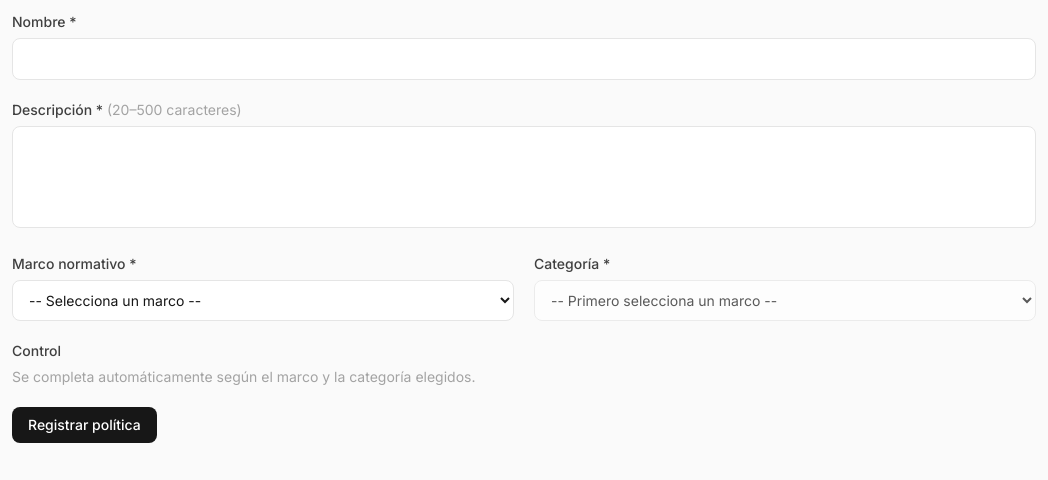
Test: PolicyCreateForm › shows validation error when category is not selected
Type "Política test" into the field labelled "Nombre *" at (524, 59), box [12,38,1036,80]
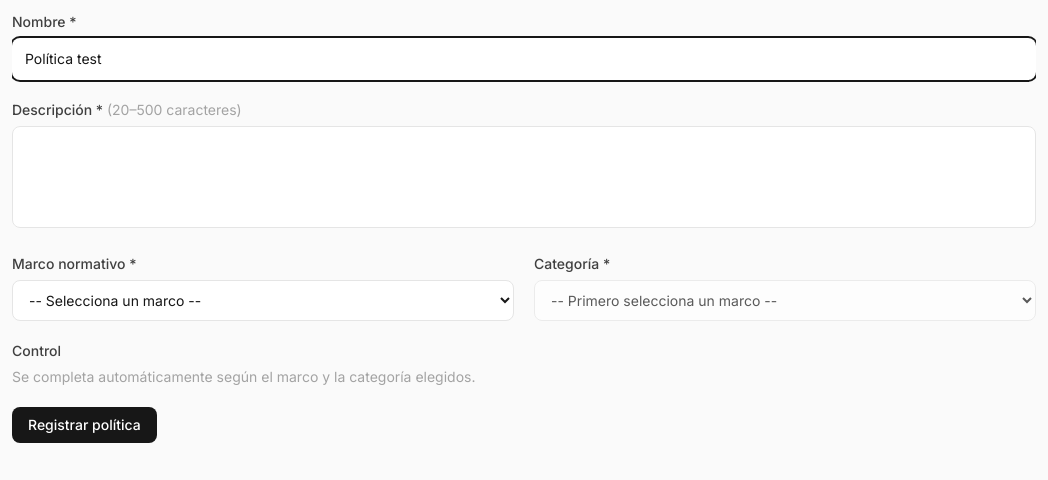
Type "Descripción con al menos veinte caracteres aquí." into the text box labelled "Descripción * (20–500 caracteres)" at (524, 177), box [12,126,1036,228]
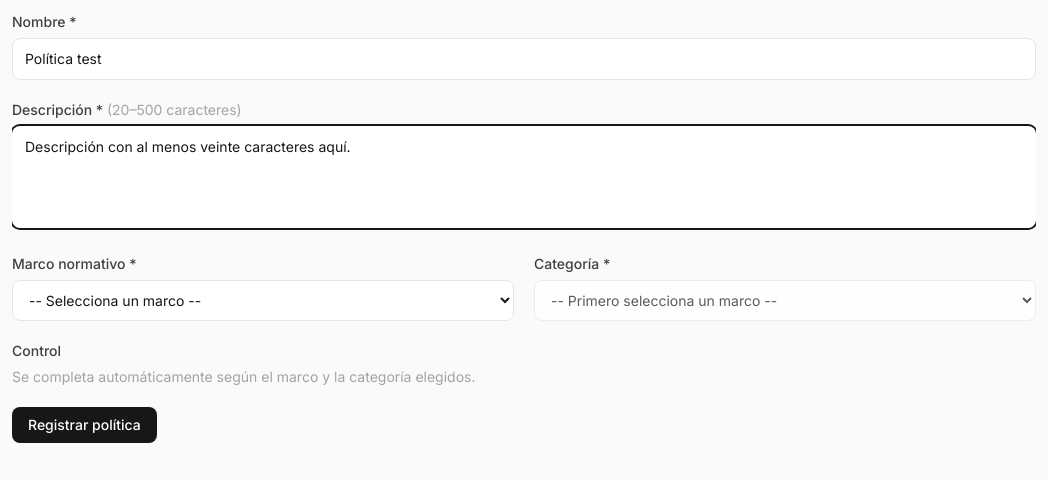
Click the button "Registrar política" at (84, 425), box [12,407,157,443]
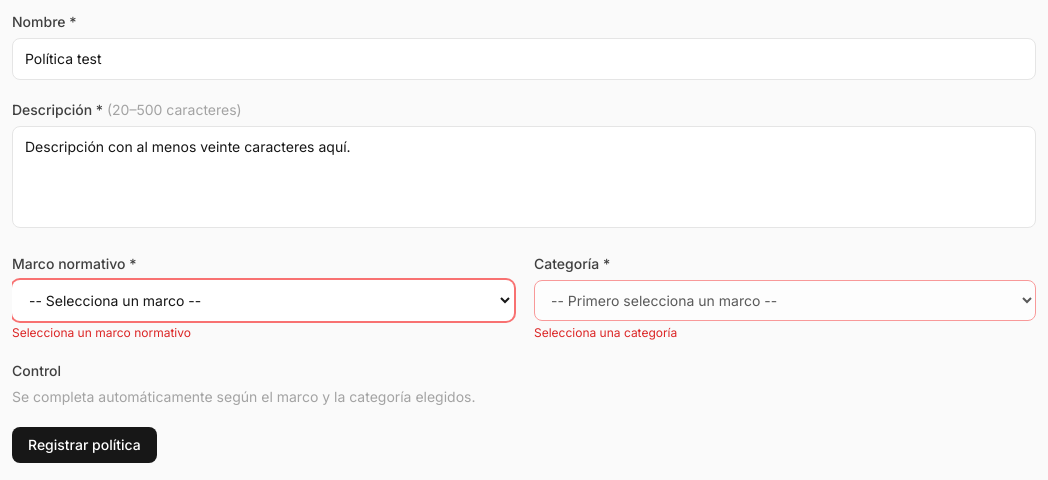
Expected: the text "Selecciona una categoría" is shown, [534,325,677,340]
